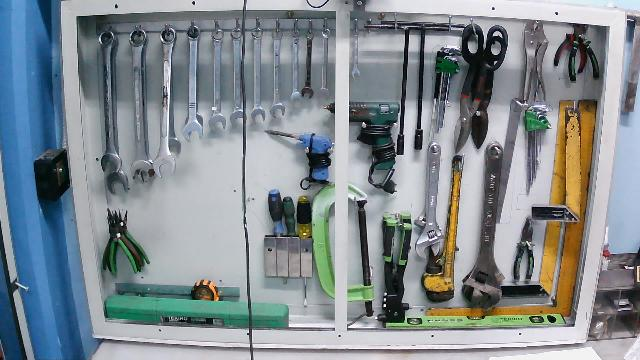kunci_l_bintang: (521, 101, 554, 196)
